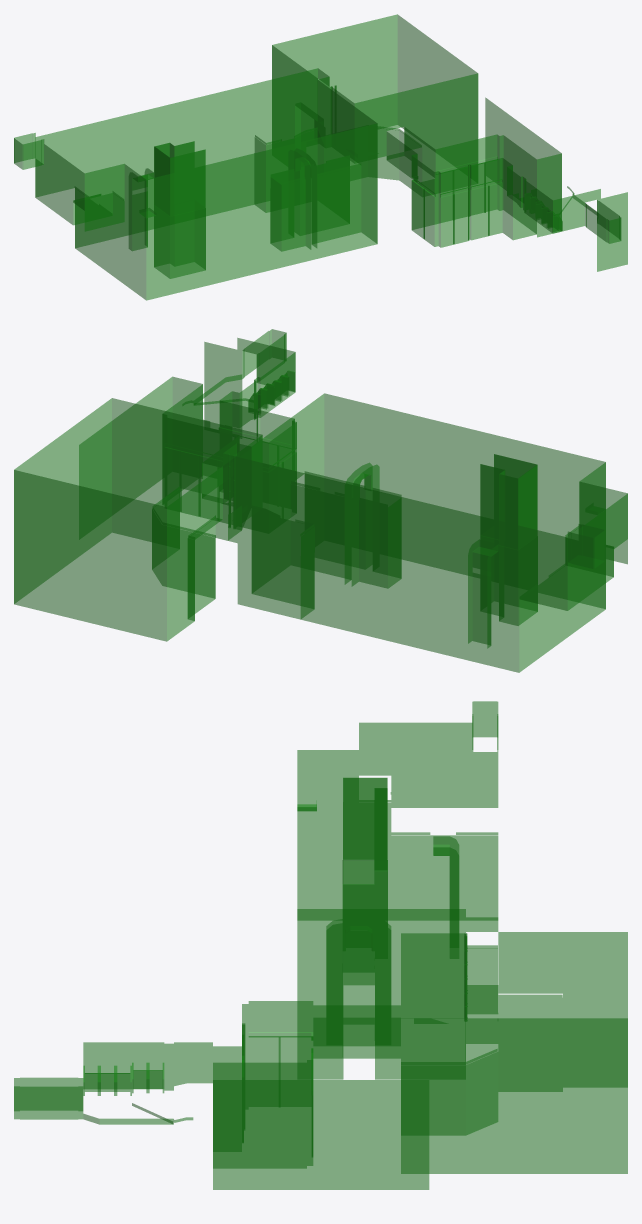
Rendered from wall_col.obj.
The picture shows the model from 3 angles, top to bottom: view 1: azimuth 30°, elevation 25°; view 2: azimuth 150°, elevation 25°; view 3: azimuth 270°, elevation 25°; orthographic projection. The views are drawn at different scales.
Size of the model in its own units: 234 by 63.72 by 189.
